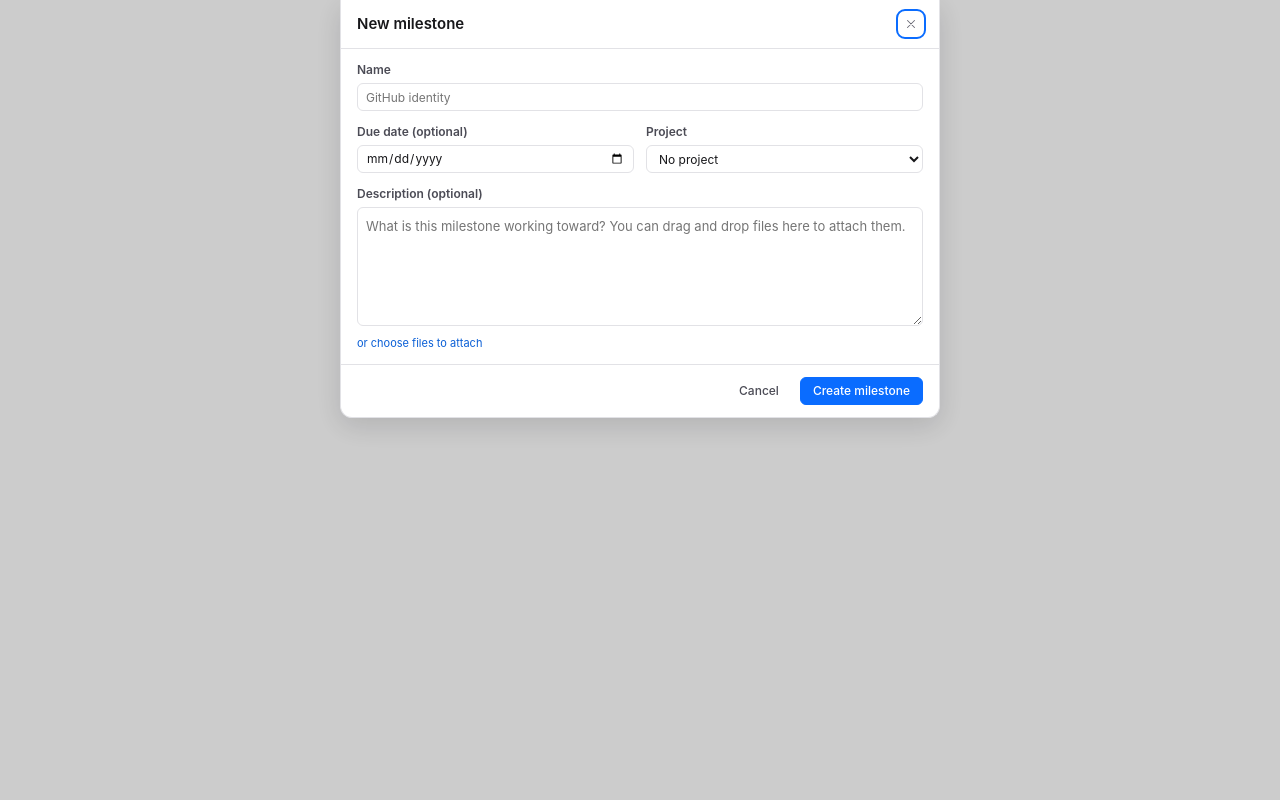
Test case: NewMilestoneDialog › asks for a name of at least three characters, with the prototype's message
Type "ab" into the field labelled "Name" at (640, 97), box [357,83,923,111]
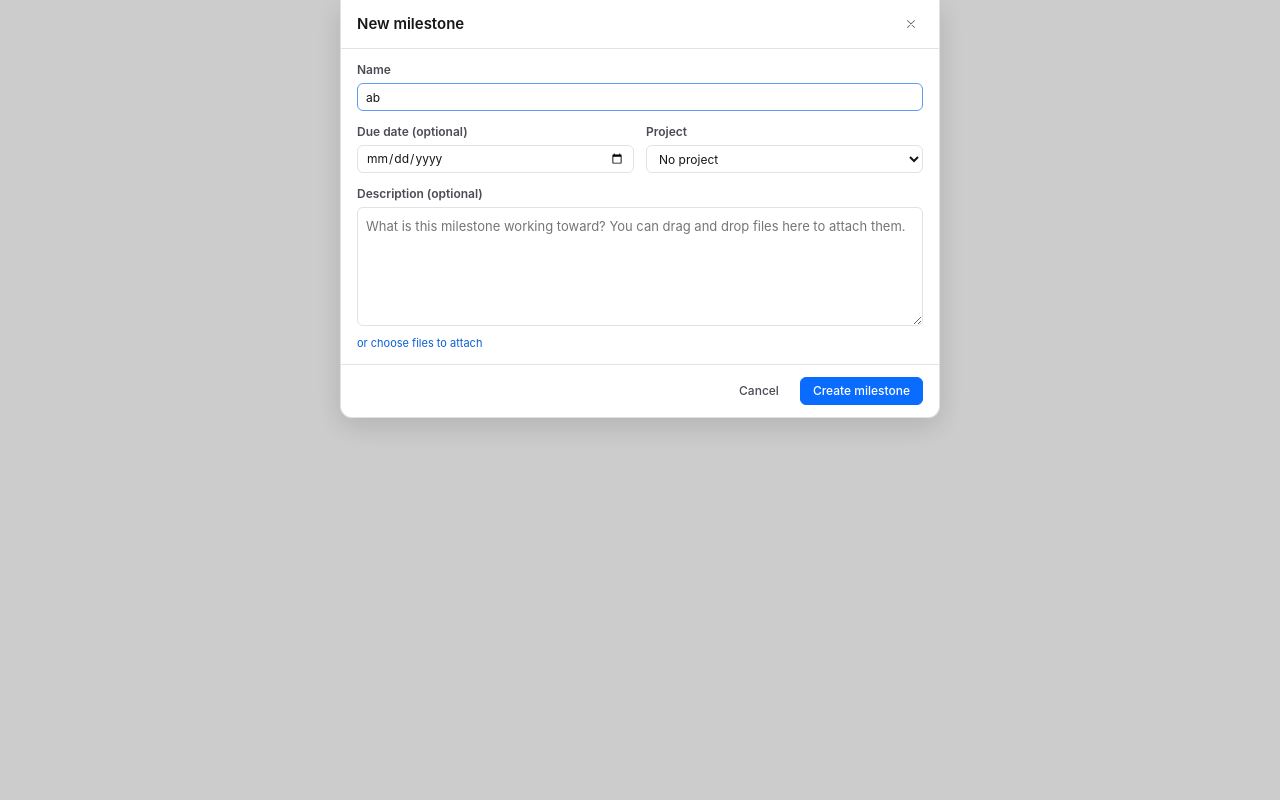
Click the button "Create milestone" at (861, 391), box [800,377,923,405]
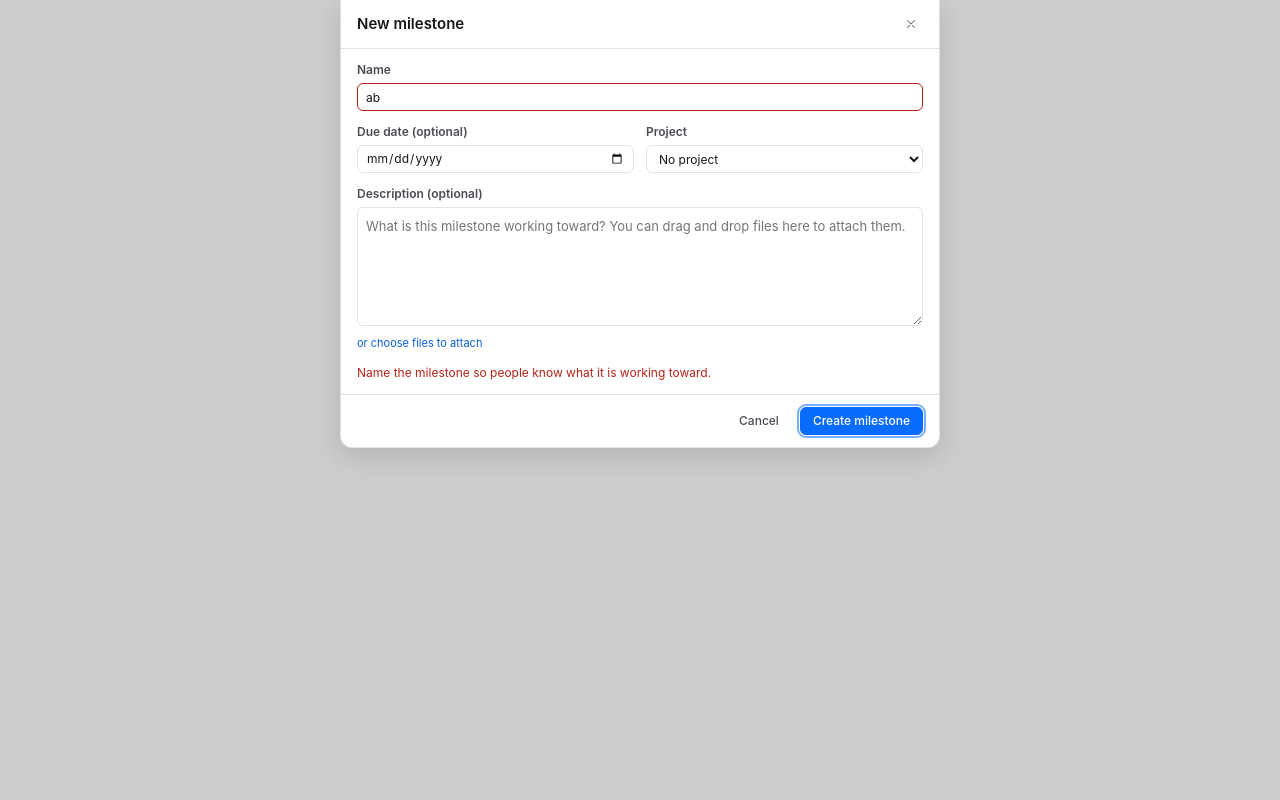
Now the text "Name the milestone so people know what it is working toward." is shown, box [357,365,711,380]
